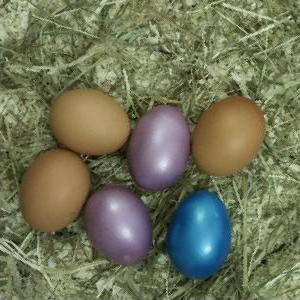egg: (167, 189, 232, 280), (192, 98, 267, 176), (21, 150, 91, 233), (84, 186, 154, 266), (50, 87, 130, 155), (131, 105, 191, 192)
